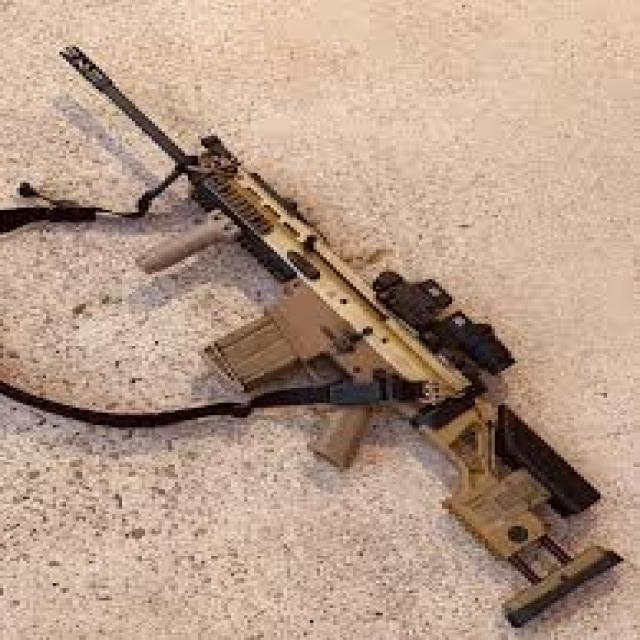Gun: (22, 15, 609, 622)
